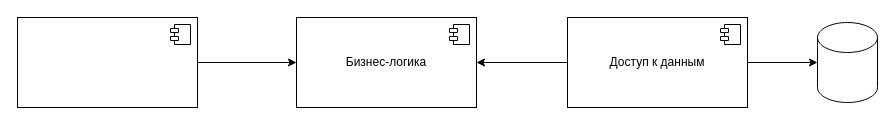
Image size: 895x125. Some labels were removed from this diagram. The shapes that lost their labels are listed below. From the top down, each one's centre as x and y in pixels, then its label:
point 107,62: UI
point 847,62: БД
